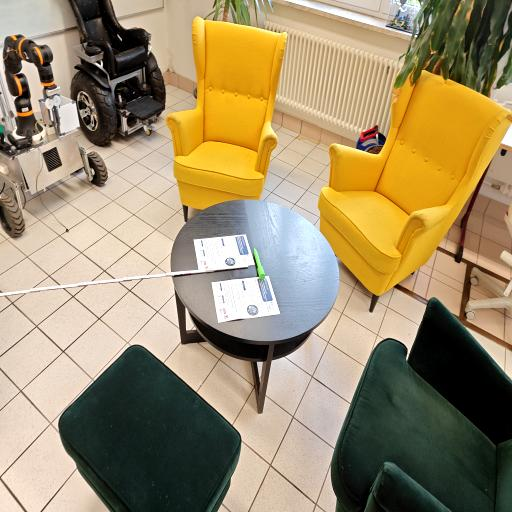Probe-Detection: (254, 248, 265, 280)
